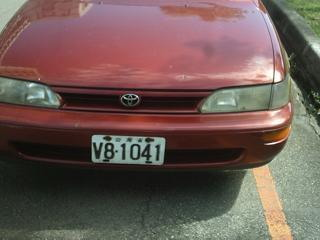plate: (88, 132, 168, 167)
